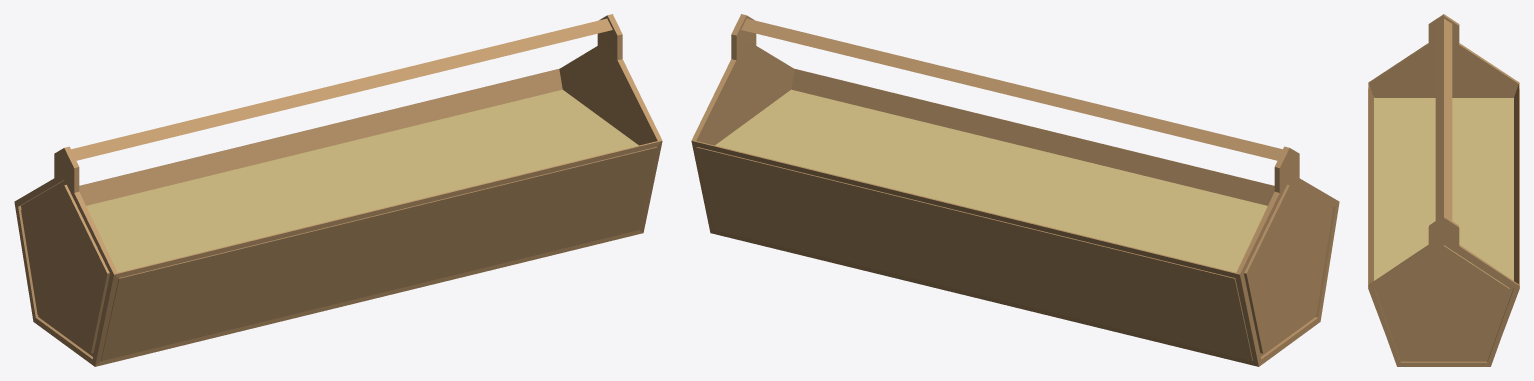
Rendered from GroundFeed.fbx.
3 renders of one model, left to right at view 1: azimuth 30°, elevation 25°; view 2: azimuth 150°, elevation 25°; view 3: azimuth 270°, elevation 25°, orthographic. The views are drawn at different scales.
Visible parts, largest first — view 1: Cylinder; view 2: Cylinder; view 3: Cylinder.
Boxes of the visible parts, <box> form: Cylinder: <box>14,14,662,366</box>; Cylinder: <box>691,14,1339,366</box>; Cylinder: <box>1368,14,1519,366</box>.
Size of the model in its own units: 604 by 207 by 191.
